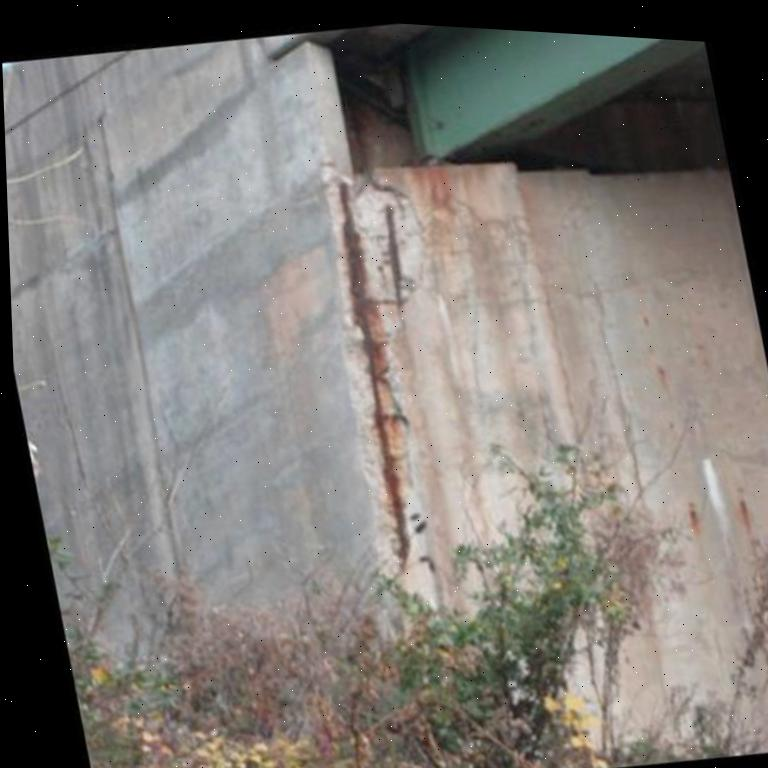exposed_rebar: (338, 180, 411, 569), (384, 205, 403, 304)
spalling: (334, 181, 435, 594)
